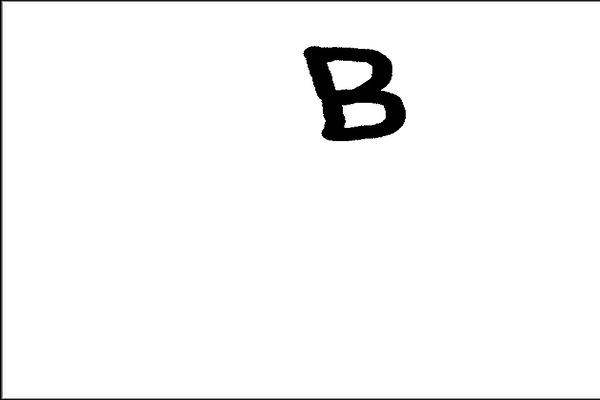B: (297, 34, 413, 154)
